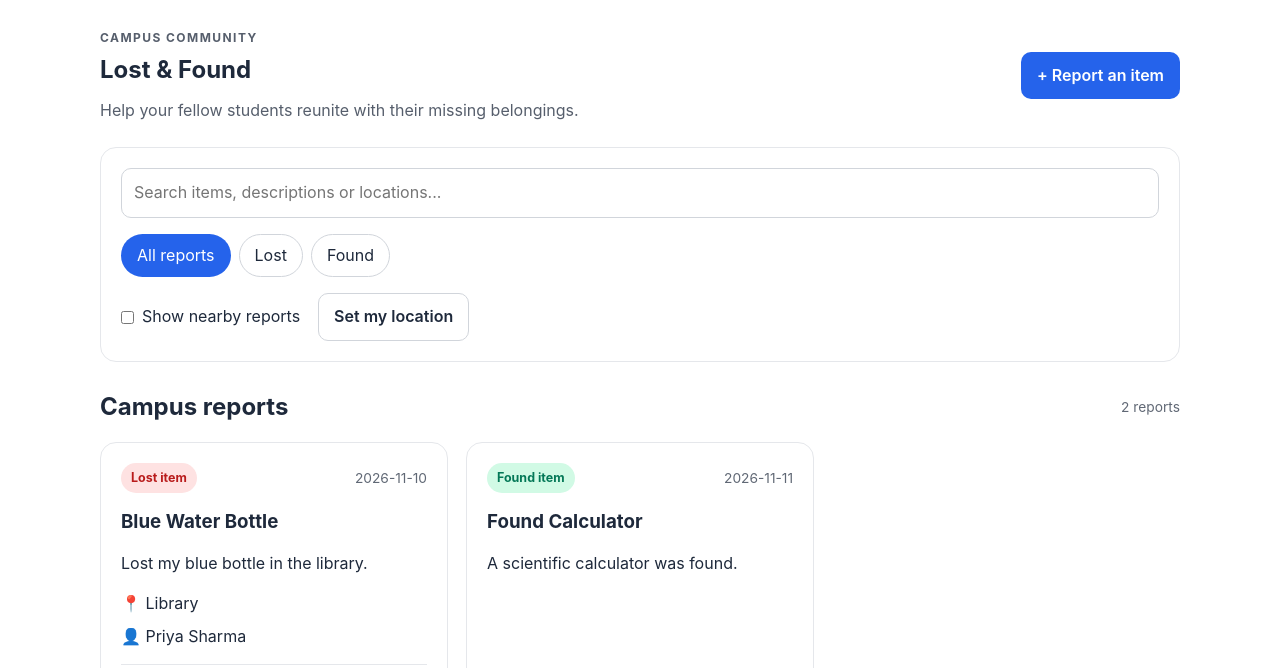
Test case: LostFound Page › opens the nearby filter and displays its location guidance
Click the checkbox labelled "Show nearby reports": (128, 317) top-left (121, 311), bottom-right (134, 324)
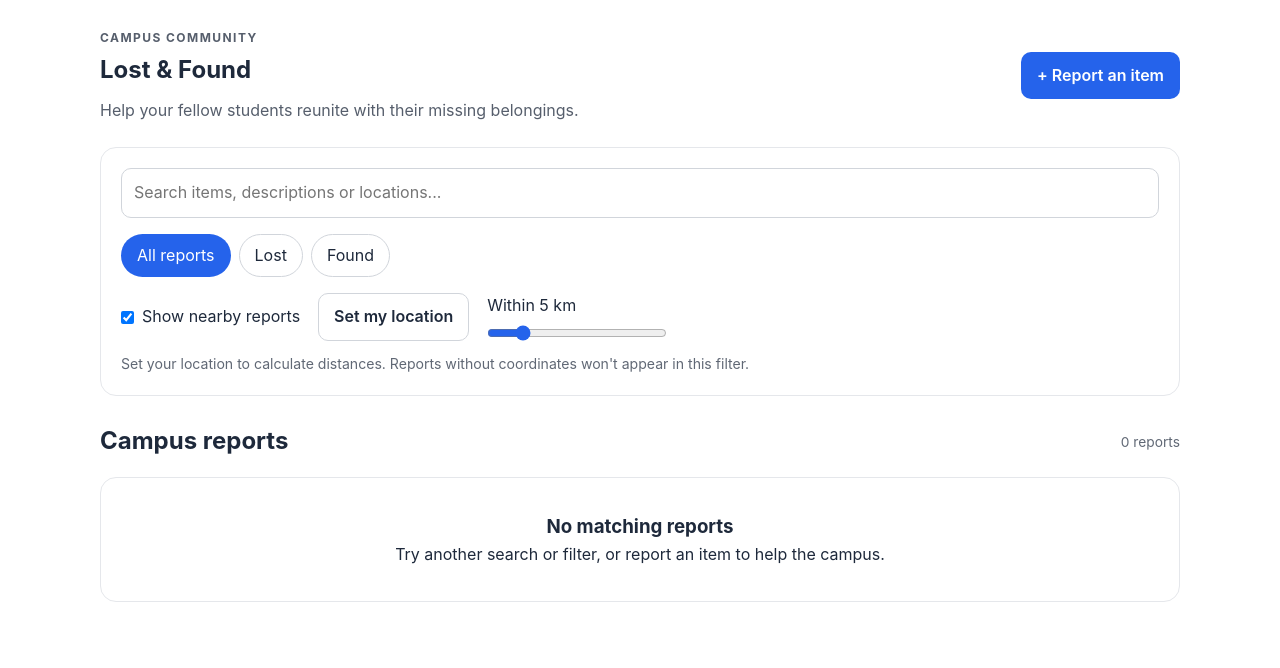
Now the text "Set your location to calculate distances" is shown, box top-left (121, 355), bottom-right (749, 372)
Now the text "Within 5 km" is shown, box top-left (487, 293), bottom-right (667, 341)
